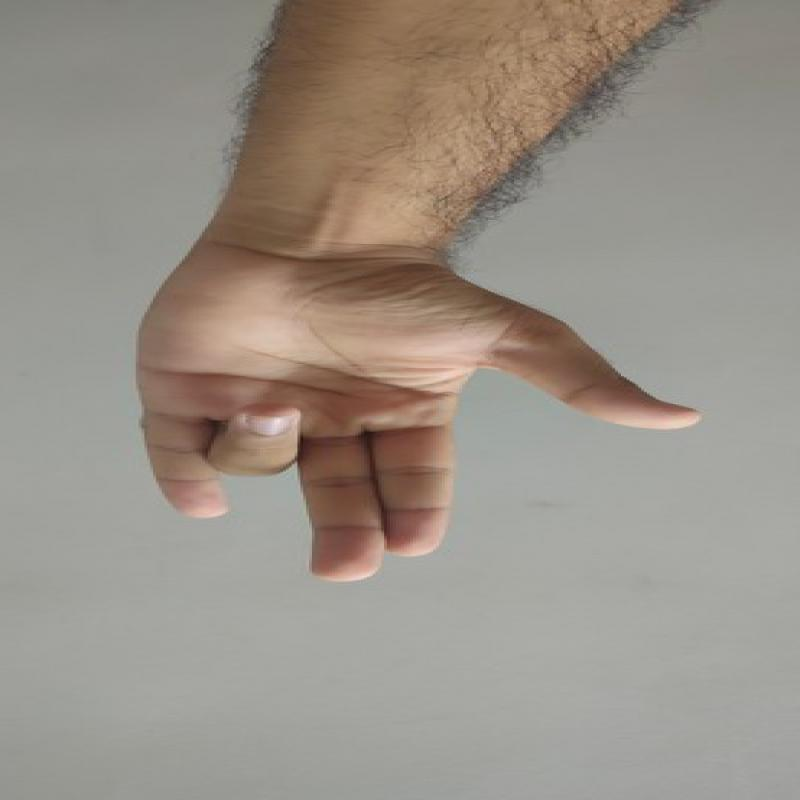Pathaaka: (103, 239, 705, 598)
